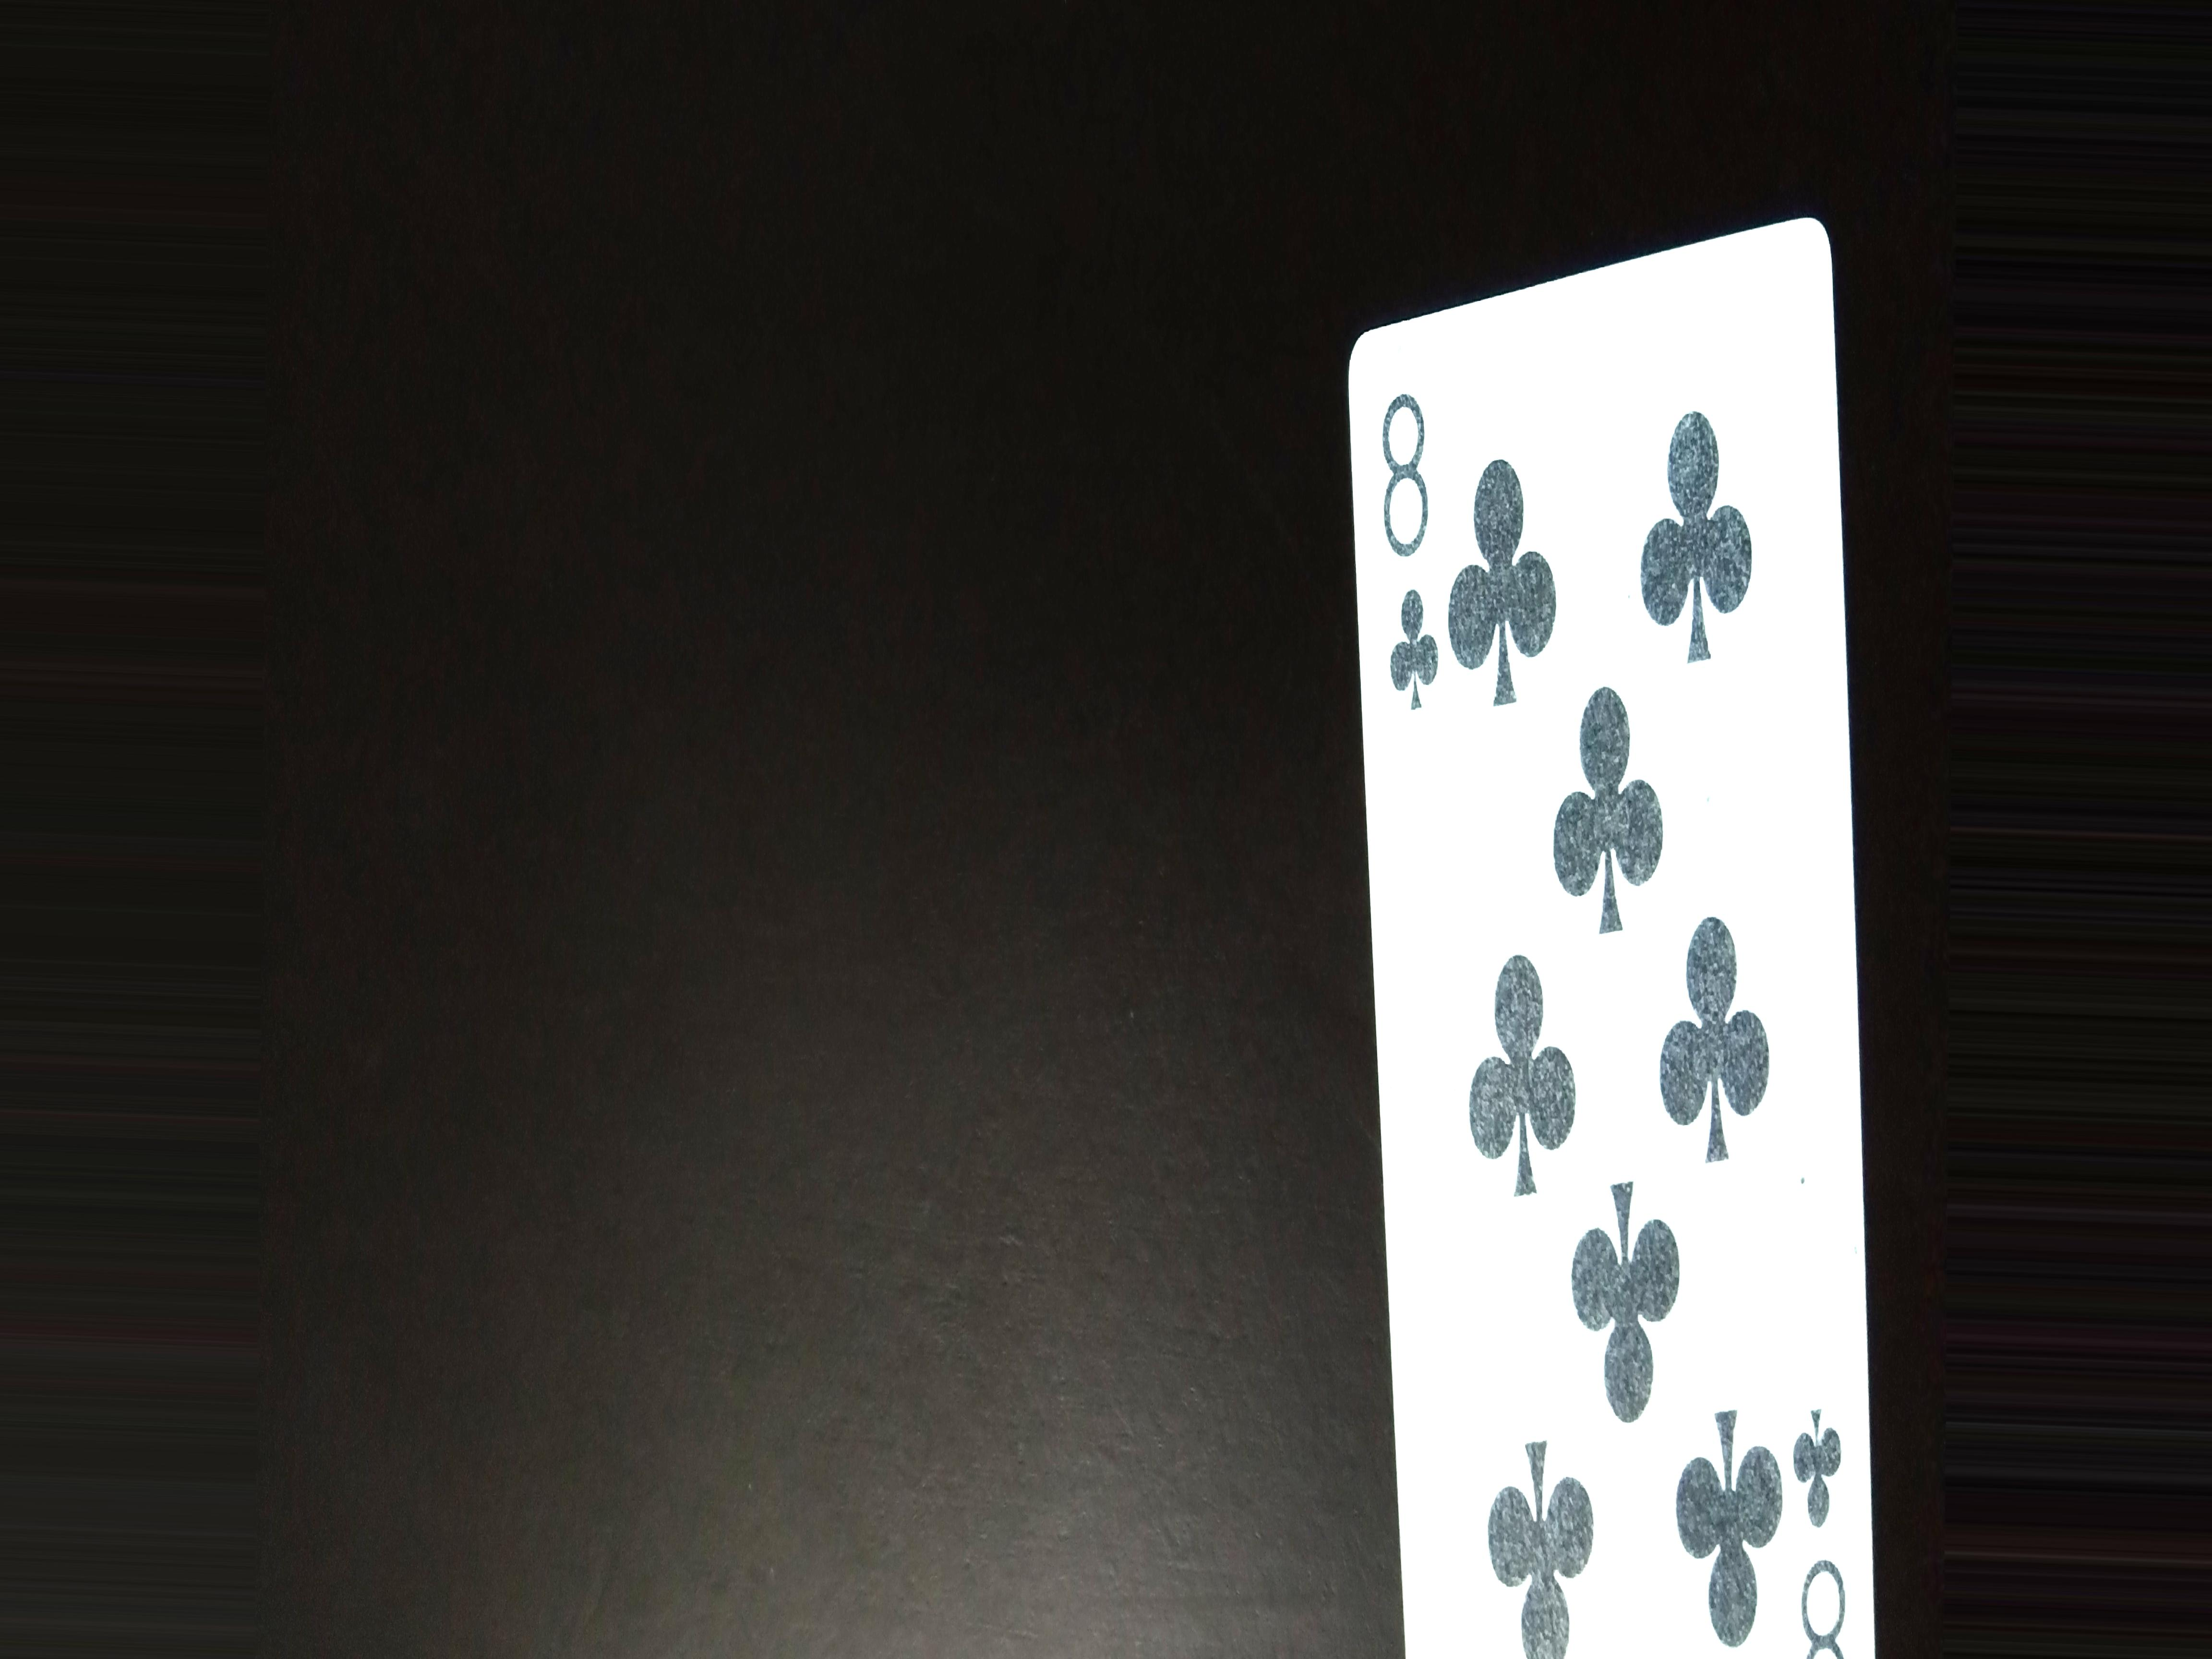8C: (1386, 352, 1446, 741)
